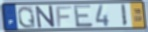4: (94, 4, 111, 28)
E: (73, 4, 95, 29)
F: (55, 5, 73, 28)
I: (121, 3, 129, 27)
N: (35, 5, 57, 29)
Q: (17, 5, 37, 29)
